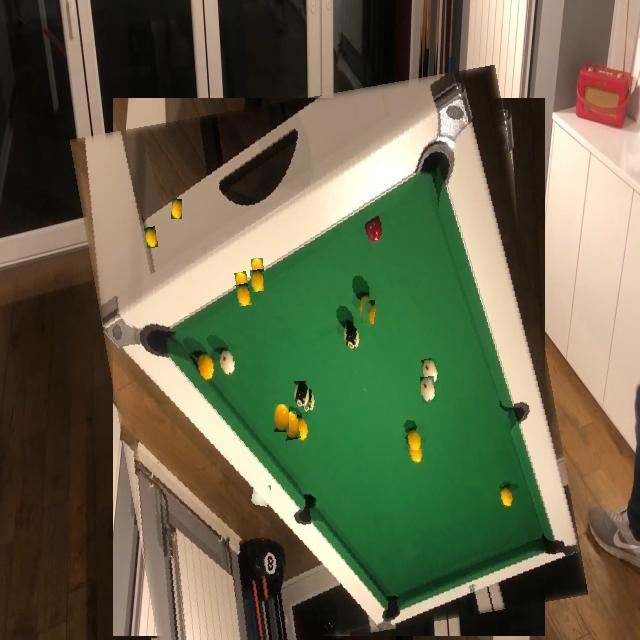Ball: (251, 483, 270, 507), (420, 376, 436, 403), (442, 376, 458, 403), (274, 404, 289, 432), (294, 381, 309, 407), (360, 300, 375, 324), (251, 270, 264, 292), (171, 198, 182, 219), (252, 258, 264, 275)
Billiard table: (91, 81, 566, 640)
